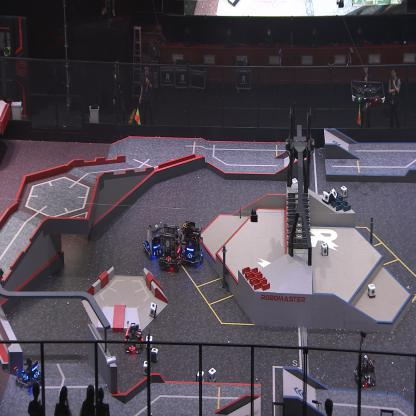car: (158, 221, 184, 272), (180, 220, 205, 265), (140, 220, 164, 259), (16, 354, 40, 389), (354, 353, 378, 388), (124, 320, 146, 355)
